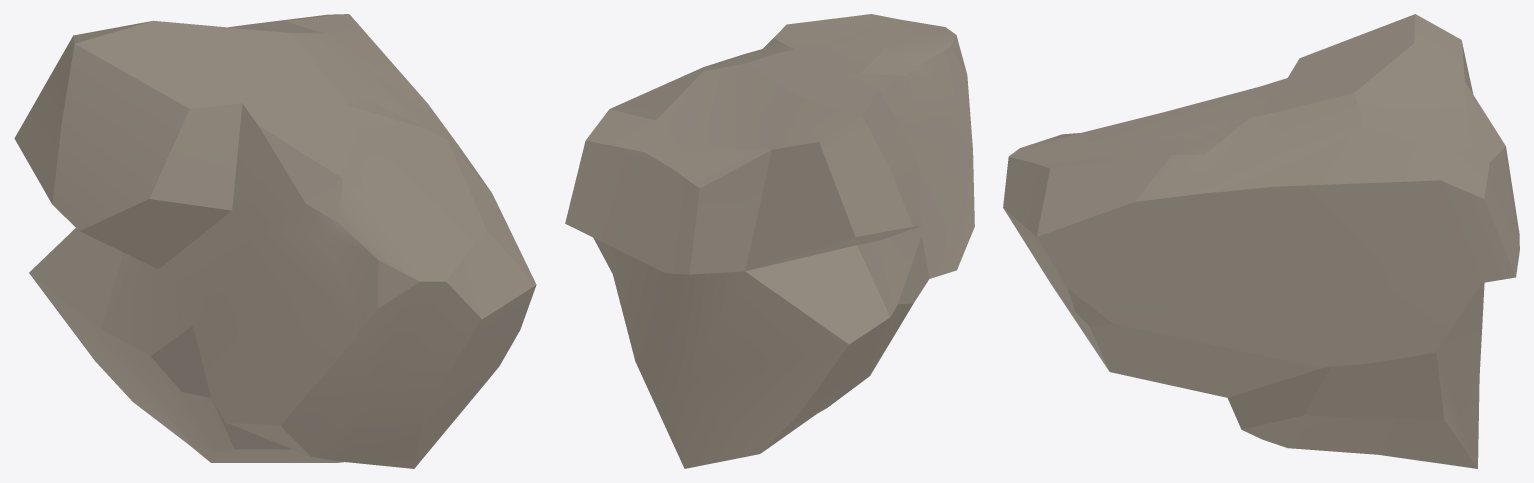
File: quaternius-rock.glb
3 renders of one model, left to right at view 1: azimuth 30°, elevation 25°; view 2: azimuth 150°, elevation 25°; view 3: azimuth 270°, elevation 25°, orthographic. The views are drawn at different scales.
Parts seen in each view (by area): view 1: Rock_1; view 2: Rock_1; view 3: Rock_1.
Boxes of the visible parts, <box> form: Rock_1: <box>14,14,536,468</box>; Rock_1: <box>565,14,974,468</box>; Rock_1: <box>1003,14,1519,468</box>.
Size of the model in its own units: 71.07 by 88.74 by 108.
